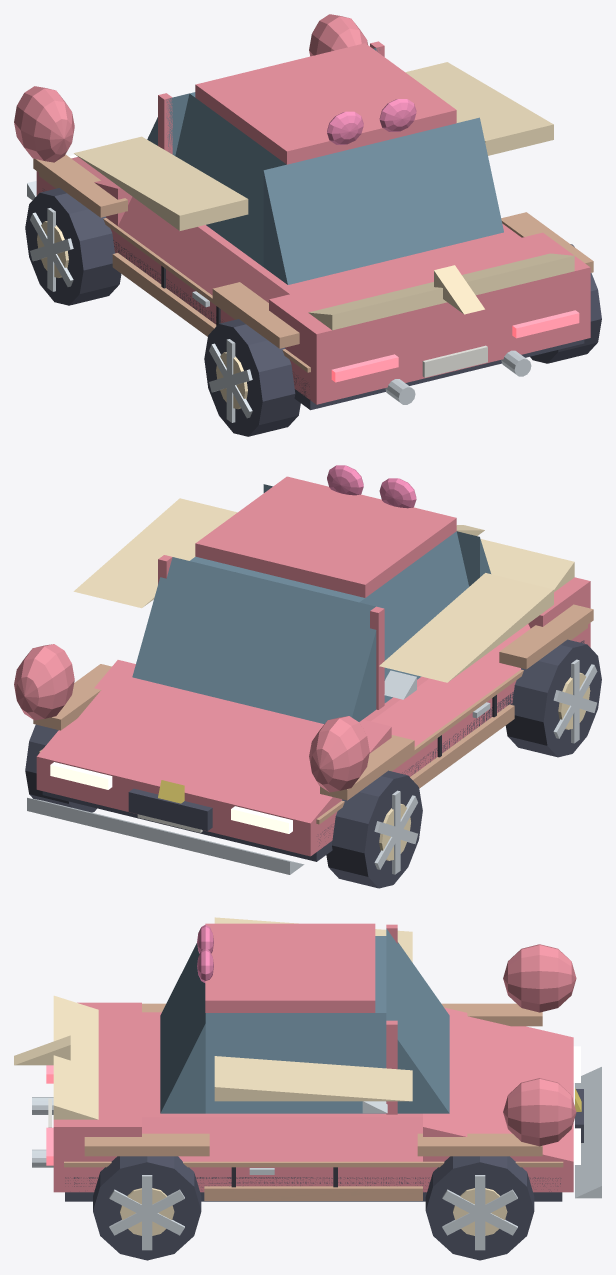
The model's file is starship_swan.glb.
3 views of the same model, one above another, from view 1: azimuth 30°, elevation 25°; view 2: azimuth 150°, elevation 25°; view 3: azimuth 270°, elevation 25° (orthographic). The views are drawn at different scales.
Visible parts, largest first — view 1: RearWindow.235, Tail.140, Roof.335, Body.335, Wing_L.013, CabinSideL.132, Wheel_RL.275, Wheel_FL.275, ShoulderL.132, Wing_R.013, Ducktail.090, Claw-1.010 (+22 smaller); view 2: Windshield.235, Nose.132, Roof.335, Wing_L.013, Body.335, Wing_R.013, Wheel_FL.275, Wheel_RL.275, CabinSideL.132, ShoulderL.132, Bumper.331, Claw1.010 (+23 smaller); view 3: Roof.335, Nose.132, CabinSideR.132, ShoulderR.132, Tail.140, Wing_R.013, Windshield.235, Body.335, Wheel_FR.275, Wheel_RR.275, RearWindow.235, Ducktail.090 (+23 smaller).
Part boxes in pixels (left/top/right/bottom): RearWindow.235: left=263, top=117, right=503, bottom=284; Tail.140: left=269, top=232, right=590, bottom=371; Roof.335: left=195, top=43, right=456, bottom=164; Body.335: left=36, top=171, right=590, bottom=404; Wing_L.013: left=73, top=136, right=248, bottom=230; CabinSideL.132: left=175, top=93, right=286, bottom=266; Wheel_RL.275: left=204, top=319, right=300, bottom=436; Wheel_FL.275: left=25, top=188, right=121, bottom=305; ShoulderL.132: left=118, top=196, right=289, bottom=302; Wing_R.013: left=405, top=62, right=553, bottom=155; Ducktail.090: left=308, top=253, right=574, bottom=330; Claw-1.010: left=14, top=86, right=74, bottom=162; Windshield.235: left=132, top=557, right=376, bottom=724; Nose.132: left=37, top=660, right=391, bottom=823; Roof.335: left=195, top=476, right=456, bottom=597; Wing_L.013: left=379, top=573, right=553, bottom=682; Body.335: left=36, top=623, right=590, bottom=856; Wing_R.013: left=73, top=498, right=237, bottom=608; Wheel_FL.275: left=326, top=770, right=422, bottom=888; Wheel_RL.275: left=505, top=639, right=601, bottom=757; CabinSideL.132: left=359, top=531, right=469, bottom=702; ShoulderL.132: left=371, top=624, right=530, bottom=746; Bumper.331: left=27, top=797, right=304, bottom=874; Claw1.010: left=14, top=644, right=74, bottom=720; Roof.335: left=205, top=923, right=375, bottom=1012; Nose.132: left=423, top=1007, right=573, bottom=1161; CabinSideR.132: left=205, top=1013, right=386, bottom=1113; ShoulderR.132: left=142, top=1117, right=422, bottom=1161; Tail.140: left=53, top=1002, right=141, bottom=1161; Wing_R.013: left=214, top=1056, right=412, bottom=1101; Windshield.235: left=386, top=928, right=449, bottom=1113; Body.335: left=53, top=1161, right=573, bottom=1192; Wheel_FR.275: left=425, top=1156, right=534, bottom=1260; Wheel_RR.275: left=93, top=1156, right=201, bottom=1260; RearWindow.235: left=160, top=943, right=205, bottom=1113; Ducktail.090: left=53, top=995, right=98, bottom=1119.
Bounding box in the file's own units: 3.55 × 2.39 × 5.2.
